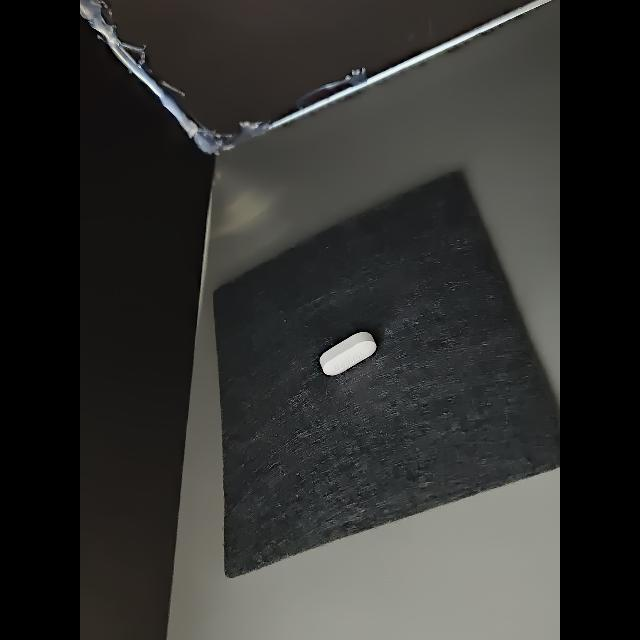Intact Pill: (320, 332, 376, 375)
